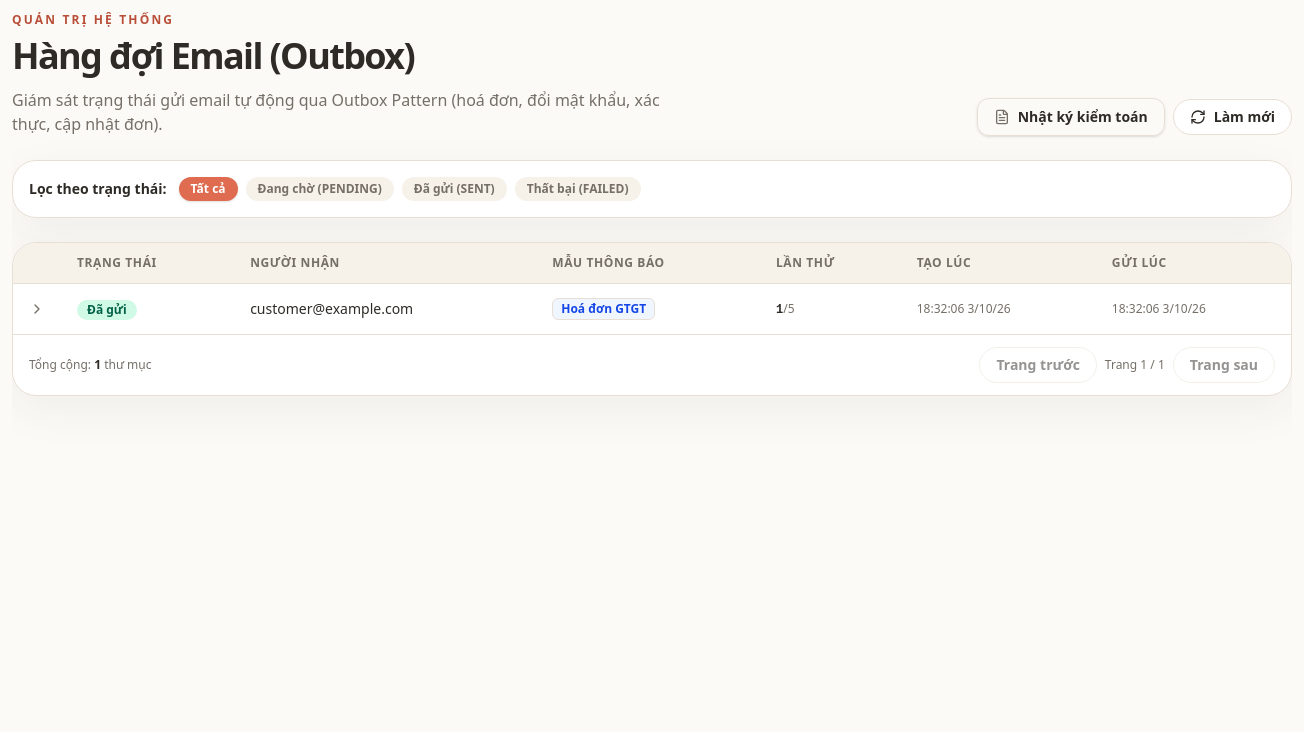
Test: EmailOutboxList › renders outbox list and expands row details
The width and height of the screenshot is (1304, 732).
Expected: the heading "Hàng đợi Email (Outbox)" is shown, [12,31,414,80]
Expected: the text "Đã gửi" is shown, [77,300,137,320]
Note: Click row to expand payload details
Click the text "customer@example.com" at (385, 309), box [234,284,536,334]
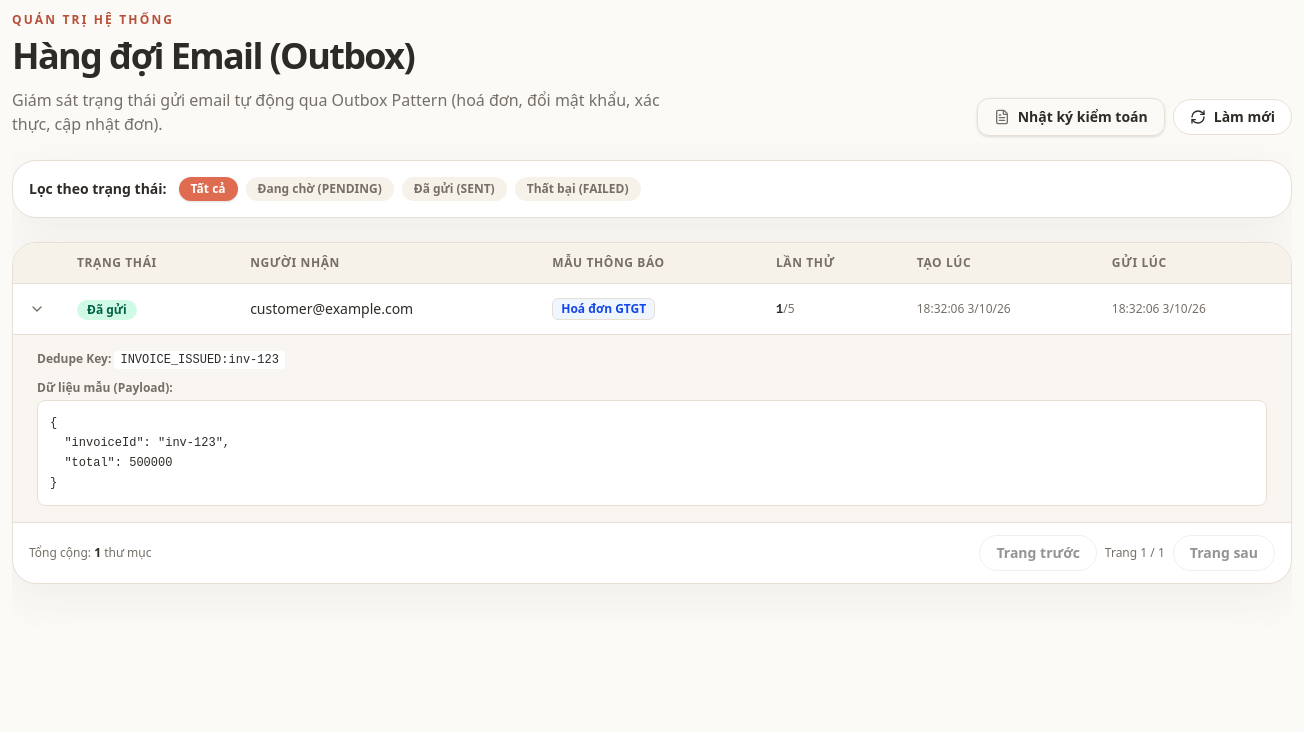
Now the text "INVOICE_ISSUED:inv-123" is shown, box [114,351,285,369]
Now the text "Dữ liệu mẫu (Payload):" is shown, box [37,379,173,396]
